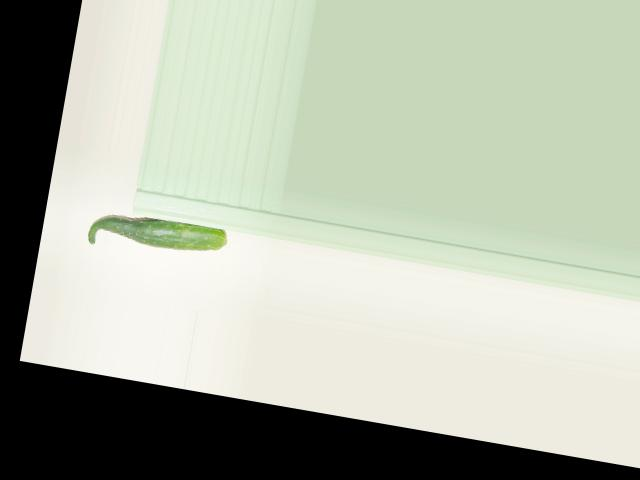cucumber: (86, 206, 228, 266)
